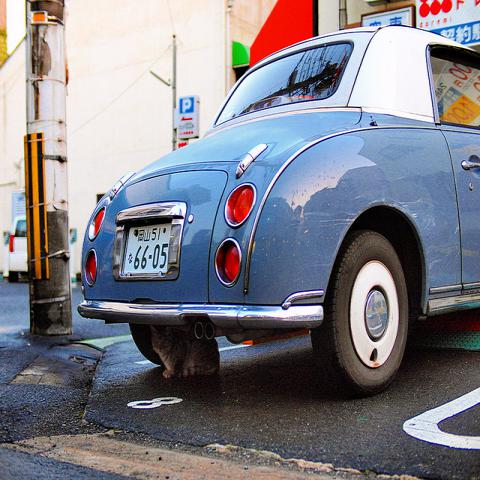car: (77, 24, 480, 397)
truck: (2, 218, 28, 283)
